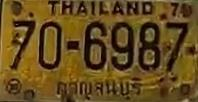0: (38, 20, 61, 69)
6: (83, 20, 106, 69)
7: (9, 19, 34, 70), (165, 21, 188, 71)
8: (138, 21, 159, 70)
9: (110, 21, 133, 70)
KRI: (54, 75, 146, 102)
